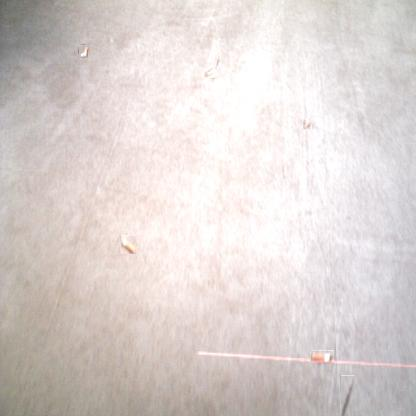dirty: (310, 350, 334, 363), (120, 235, 136, 254), (78, 44, 89, 58), (204, 67, 216, 79), (304, 118, 314, 130)
mark: (340, 375, 354, 416), (215, 56, 221, 70)
